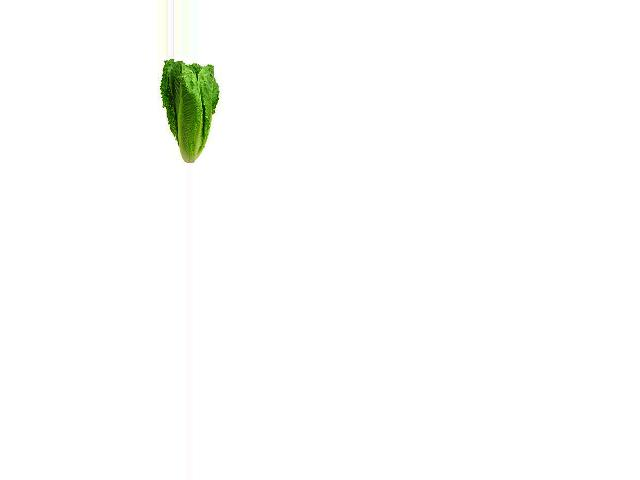lettuce: (157, 59, 226, 162)
